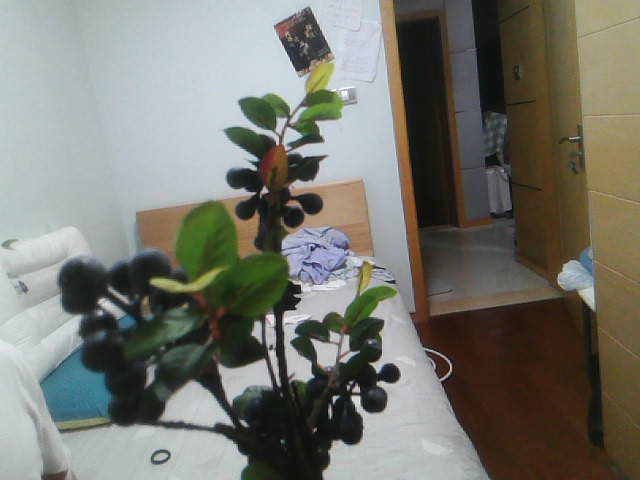blueberry: (56, 258, 100, 308), (58, 253, 102, 298), (245, 390, 287, 430), (137, 241, 165, 276), (106, 260, 139, 289), (337, 409, 365, 442), (287, 146, 310, 184), (360, 384, 391, 411), (108, 394, 142, 417), (230, 192, 257, 219), (281, 197, 309, 220), (358, 340, 384, 361), (81, 320, 120, 333), (91, 339, 108, 367), (228, 316, 245, 342), (226, 169, 255, 184)
